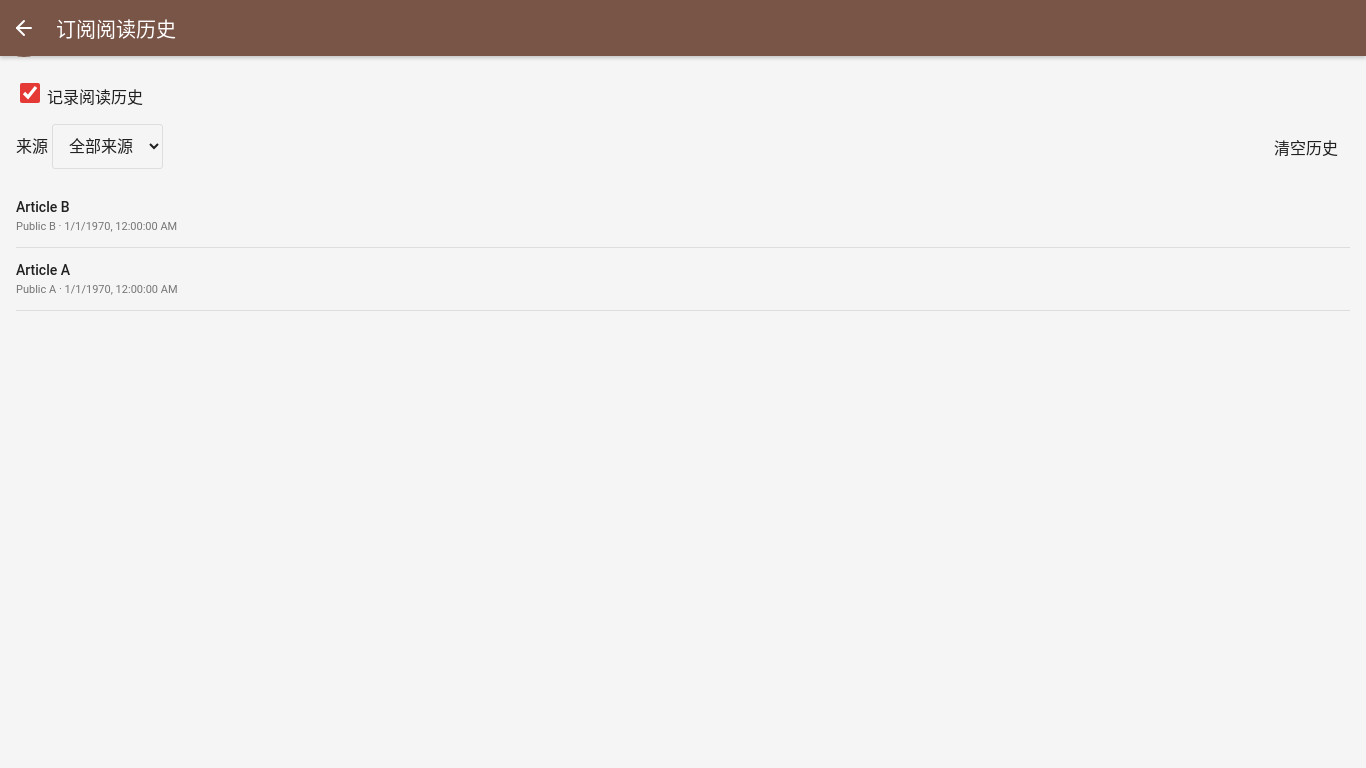
opens saved history after remount without network and moves an active reread to the top
Later steps or results of the test are not shown.
Check: the text "Article B" is shown, box [16,199,70,215]
Click the button "Article A Public A · 1/1/1970, 12:00:00 AM".
click(43, 270)  # box [16,262,1350,296]
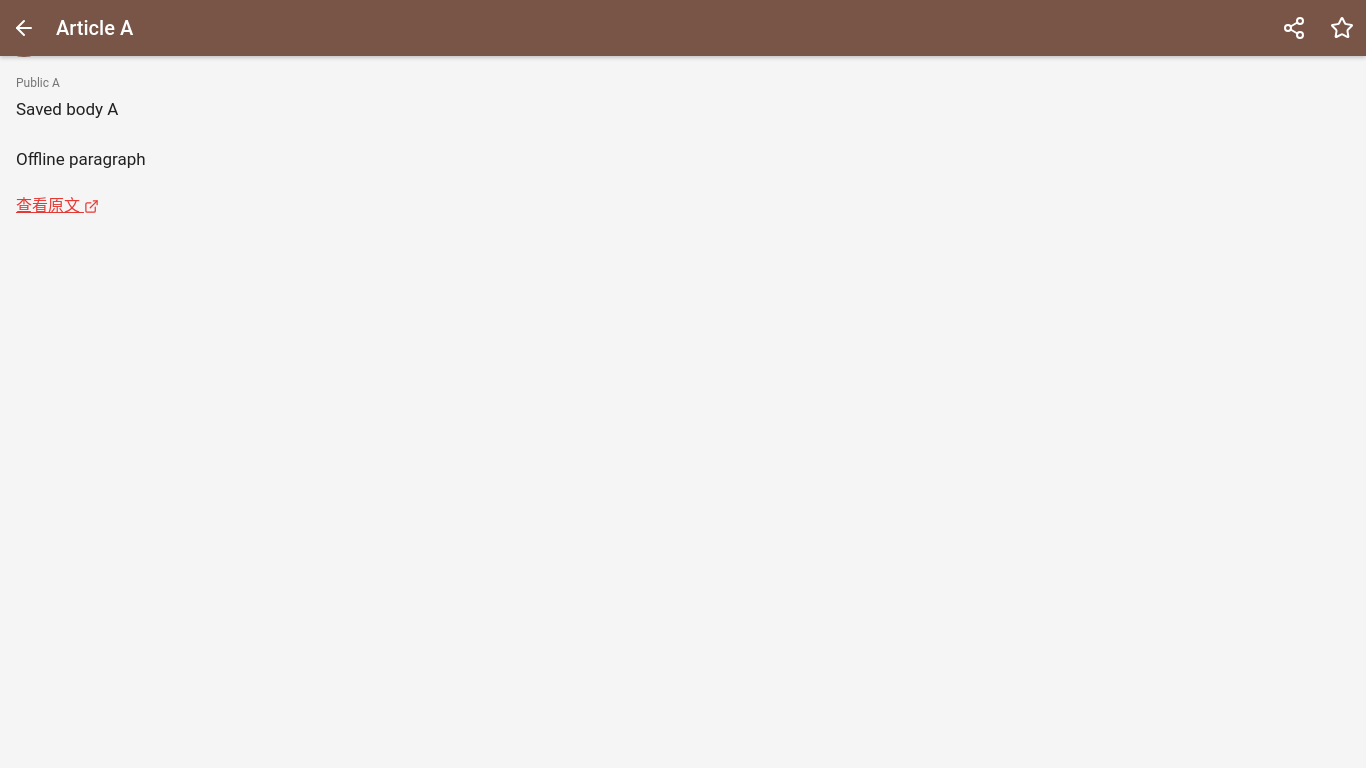
Check: the element with class "rss-content" shows "Offline paragraph", box [16,149,146,169]
